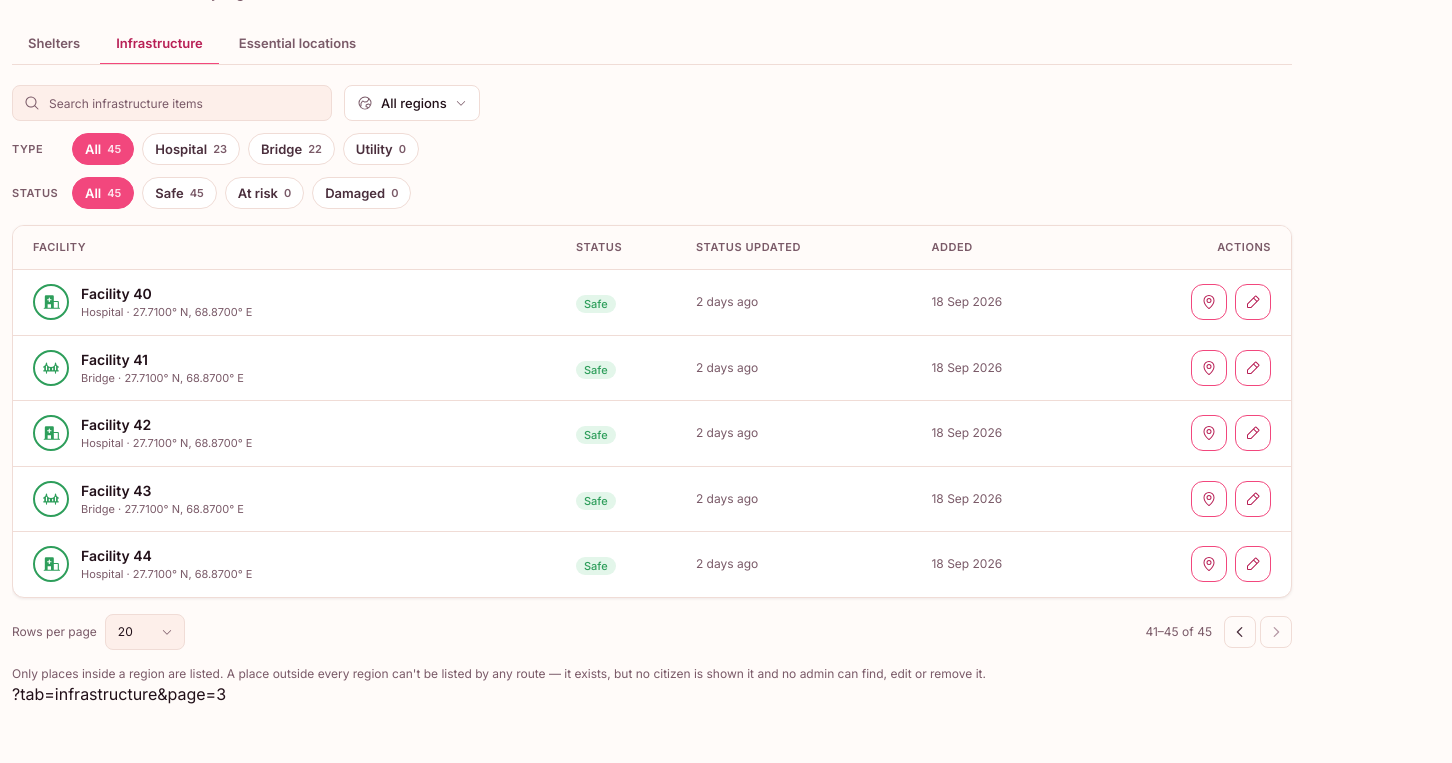
FacilitiesPage — finding things › pages through what is left, 20 at a time, and steps back to the last real page when a filter shrinks the list
This screenshot has width=1452, height=763.
Check: the text "Facility 40" is shown, box left=81, top=285, right=152, bottom=302
Check: the text "41–45 of 45" is shown, box left=1146, top=624, right=1212, bottom=640
Click the button "Bridge 22" at (291, 149), box left=248, top=133, right=335, bottom=165
(page scrolled)
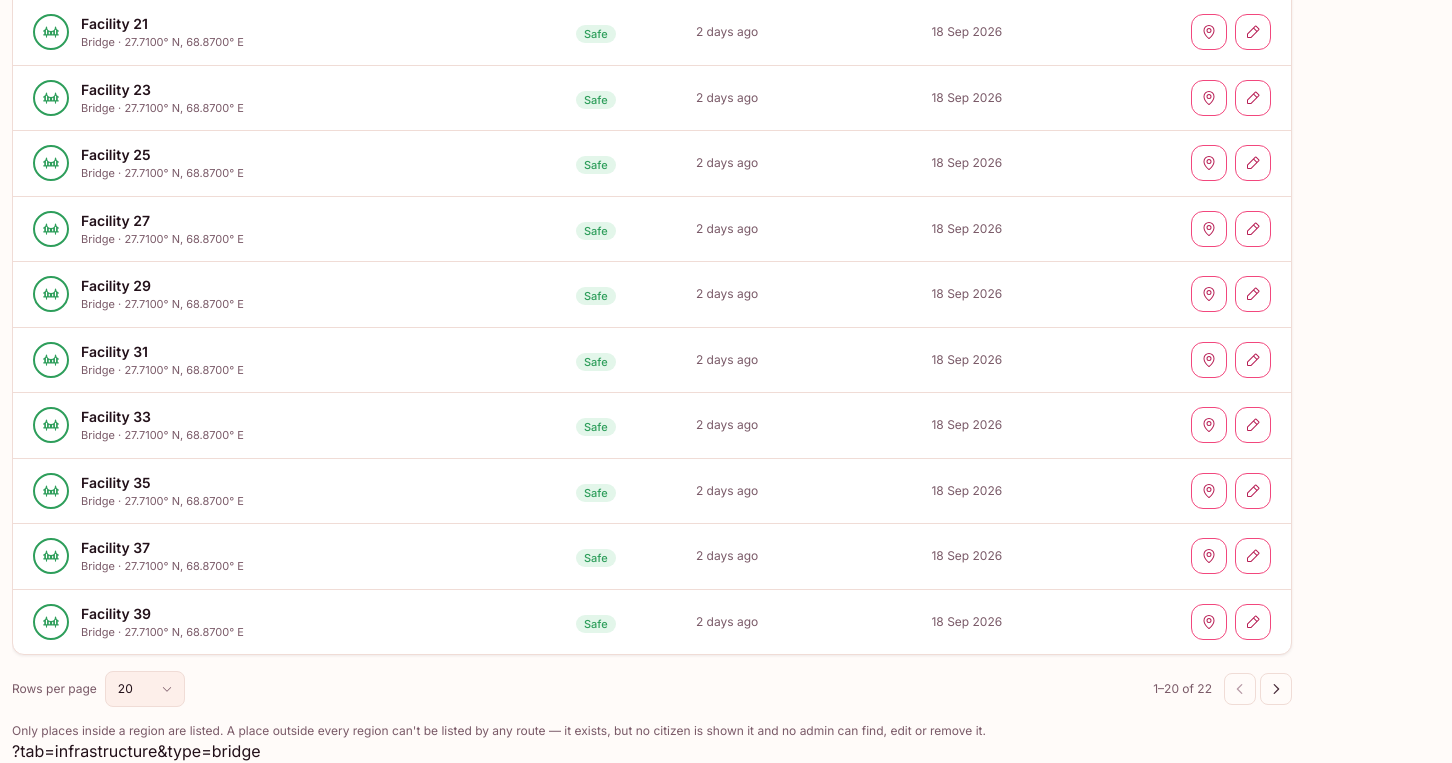
Check: the text "1–20 of 22" is shown, box left=1153, top=681, right=1212, bottom=697
